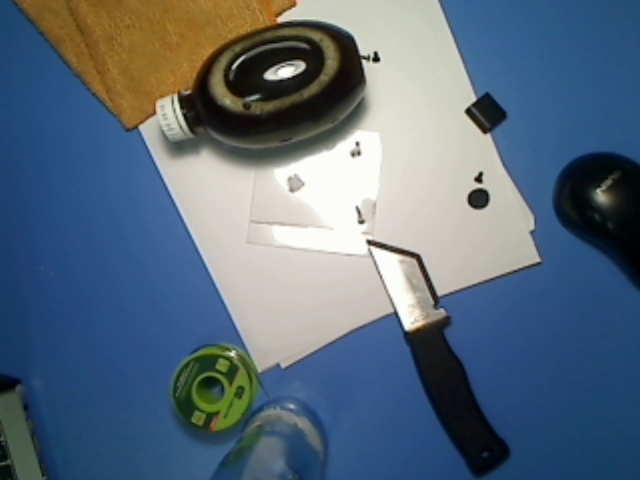plast_bottle: (153, 12, 372, 157)
